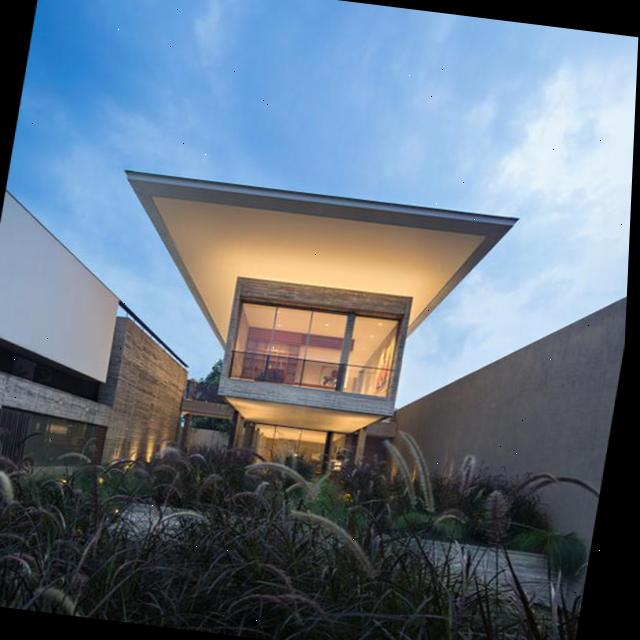building: (77, 166, 527, 517), (0, 185, 215, 506)
